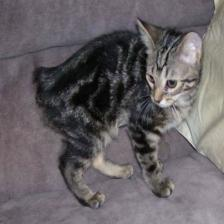cat: (134, 10, 209, 119)
